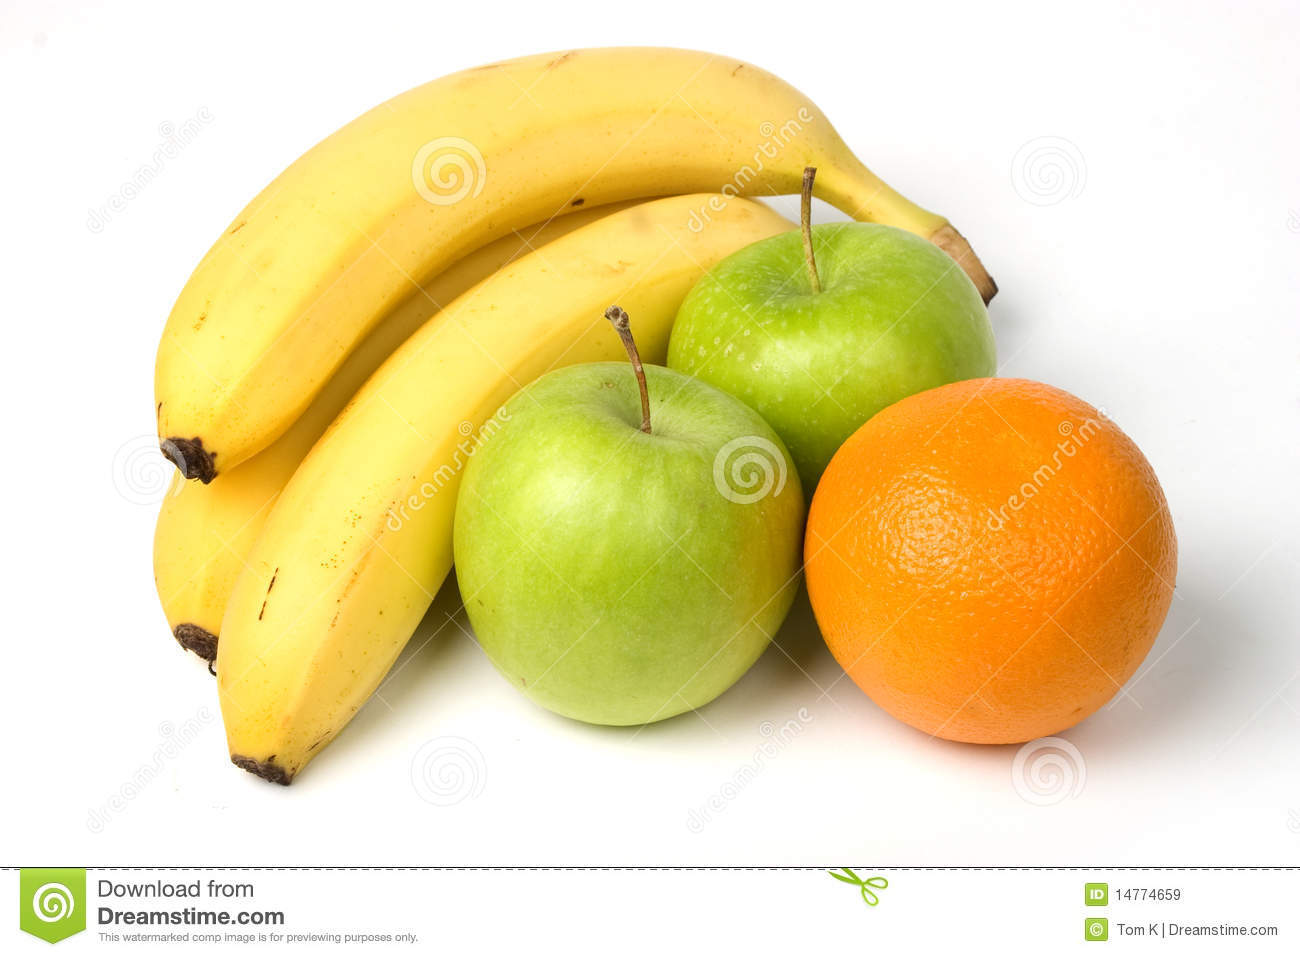banana: (169, 180, 839, 798), (147, 48, 869, 476)
orange: (795, 369, 1173, 780)
